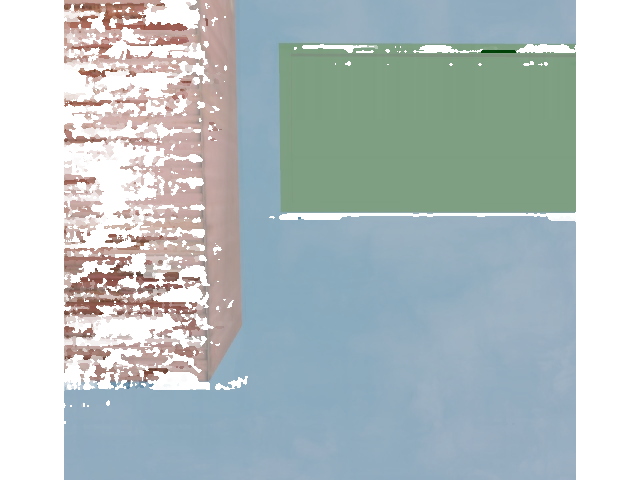container2: (272, 38, 625, 217)
container4: (0, 0, 254, 389)
